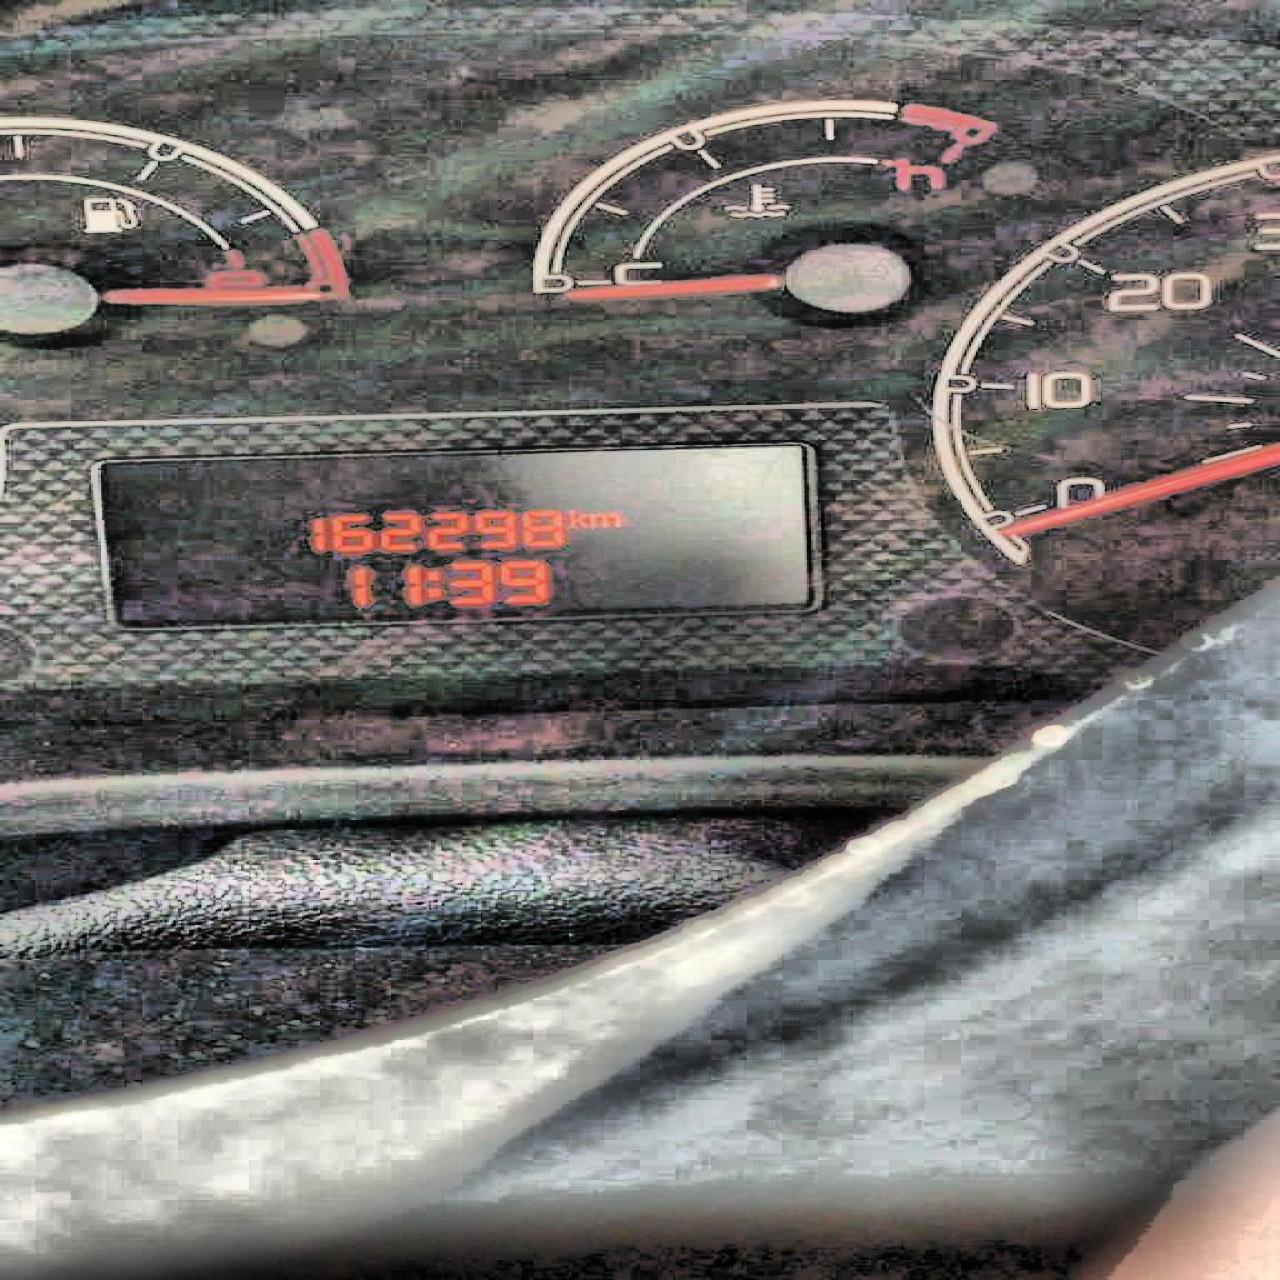1: (404, 565, 422, 604), (352, 565, 367, 605), (308, 517, 325, 551)
2: (376, 512, 421, 550), (424, 511, 467, 549)
3: (447, 561, 491, 604)
6: (329, 513, 372, 551)
8: (520, 509, 561, 546)
9: (496, 560, 546, 602), (471, 510, 516, 547)
X: (422, 570, 442, 599), (587, 512, 620, 527), (564, 508, 588, 527)
odometer: (77, 436, 826, 636)
